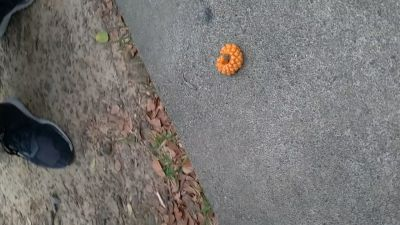eggs: (215, 43, 244, 78)
